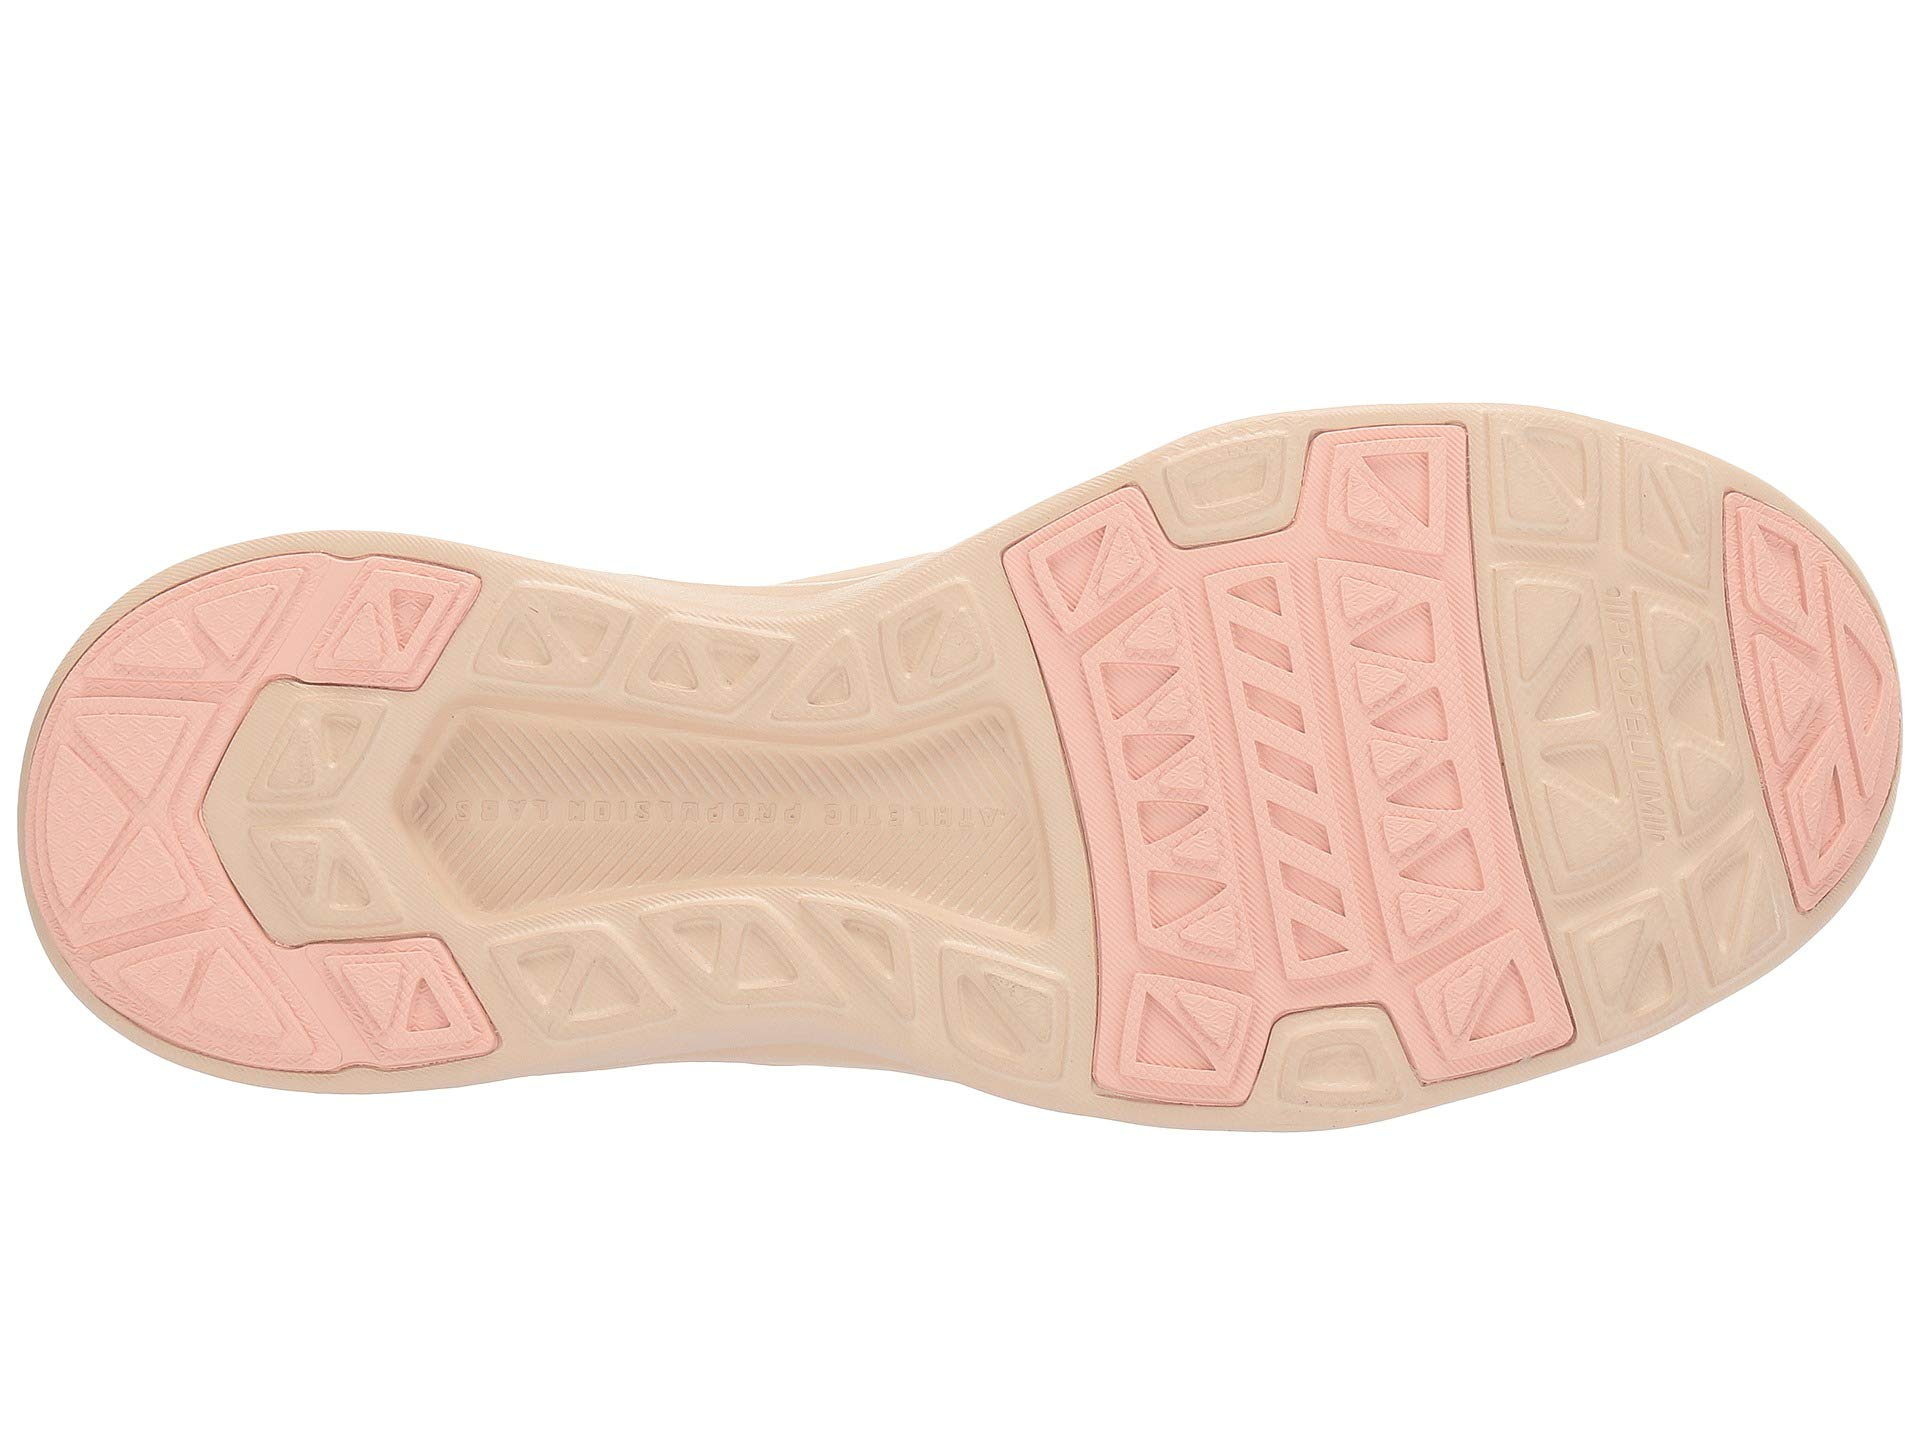quad: (1085, 552, 1565, 957), (21, 653, 461, 998)
triangle: (1085, 552, 1565, 957), (21, 653, 461, 998)
